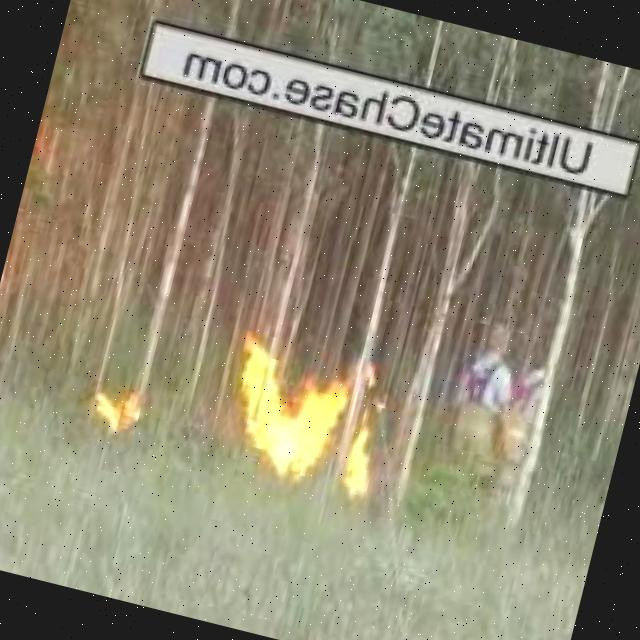fire: (209, 339, 353, 492), (329, 422, 383, 514), (78, 384, 146, 432)
